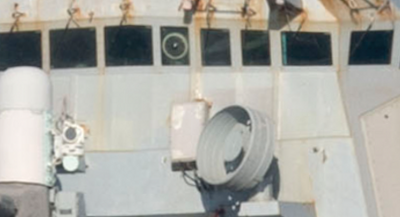rust: (4, 2, 154, 26), (291, 2, 398, 29), (180, 2, 266, 28)
